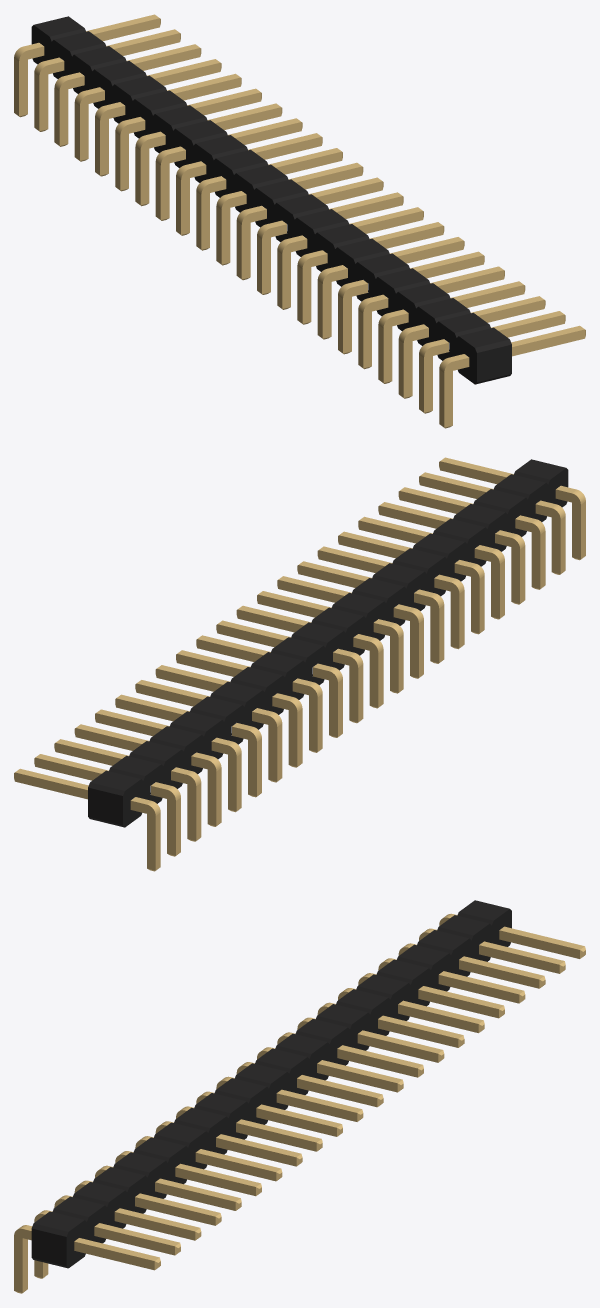
File: kc-pinheader_1x22_p2.54mm_horizontal.glb
3 renders of one model, top to bottom at view 1: azimuth 30°, elevation 25°; view 2: azimuth 150°, elevation 25°; view 3: azimuth 330°, elevation 25°, orthographic.
Visible parts, largest first — view 1: 0.75_0.5_0.25_0.9, 0_0_0_0; view 2: 0.75_0.5_0.25_0.9, 0_0_0_0; view 3: 0.75_0.5_0.25_0.9, 0_0_0_0.
Boxes of the visible parts, <box> form: 0.75_0.5_0.25_0.9: <box>14,14,585,428</box>; 0_0_0_0: <box>31,16,511,384</box>; 0.75_0.5_0.25_0.9: <box>14,457,585,871</box>; 0_0_0_0: <box>88,459,568,827</box>; 0.75_0.5_0.25_0.9: <box>14,913,585,1293</box>; 0_0_0_0: <box>31,900,511,1268</box>.
Size of the model in its own units: 1.04 by 0.5537 by 5.59.
